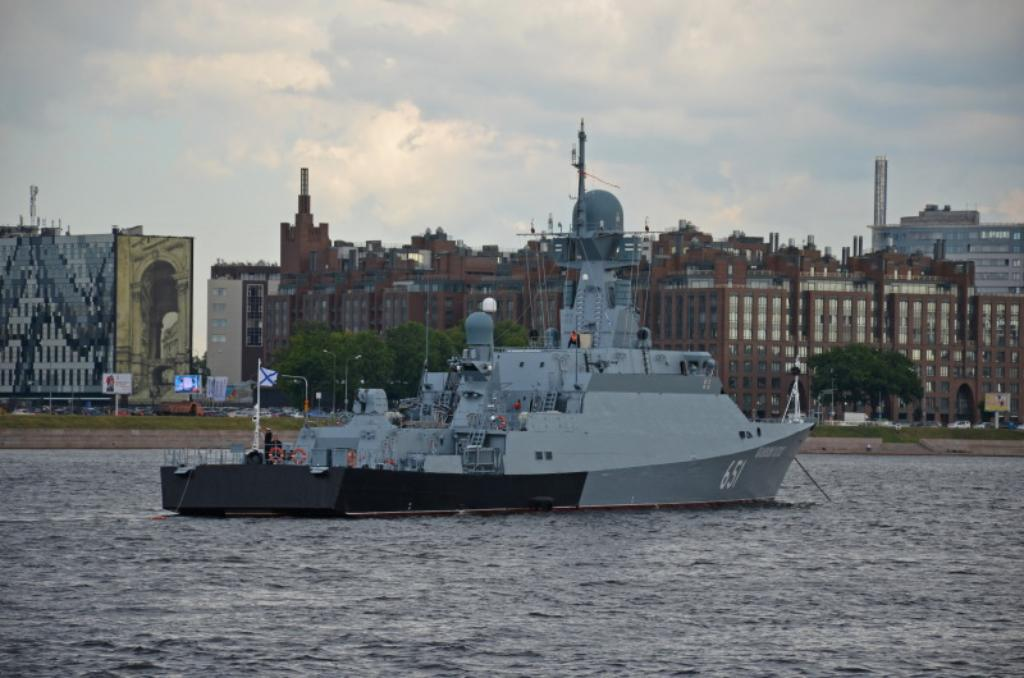Warship: (157, 114, 815, 519)
